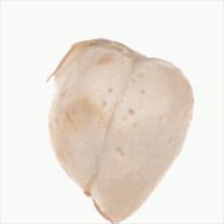L3: (70, 176, 121, 222)
L4: (49, 39, 194, 222)
